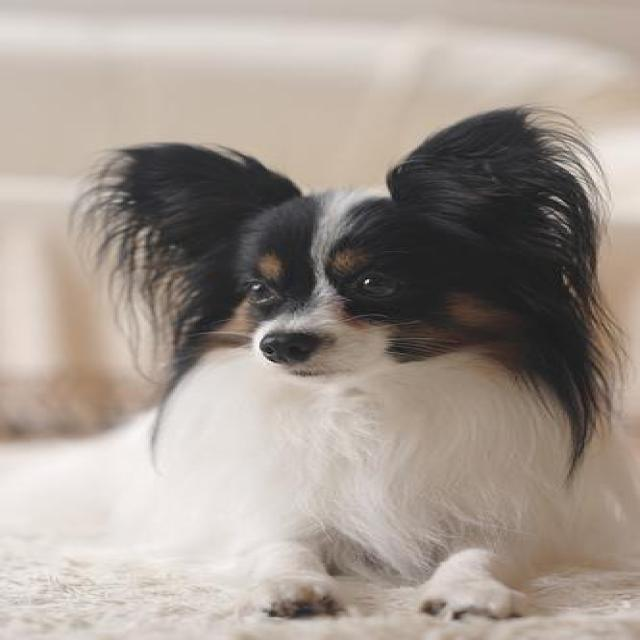papillon: (96, 105, 636, 625)
